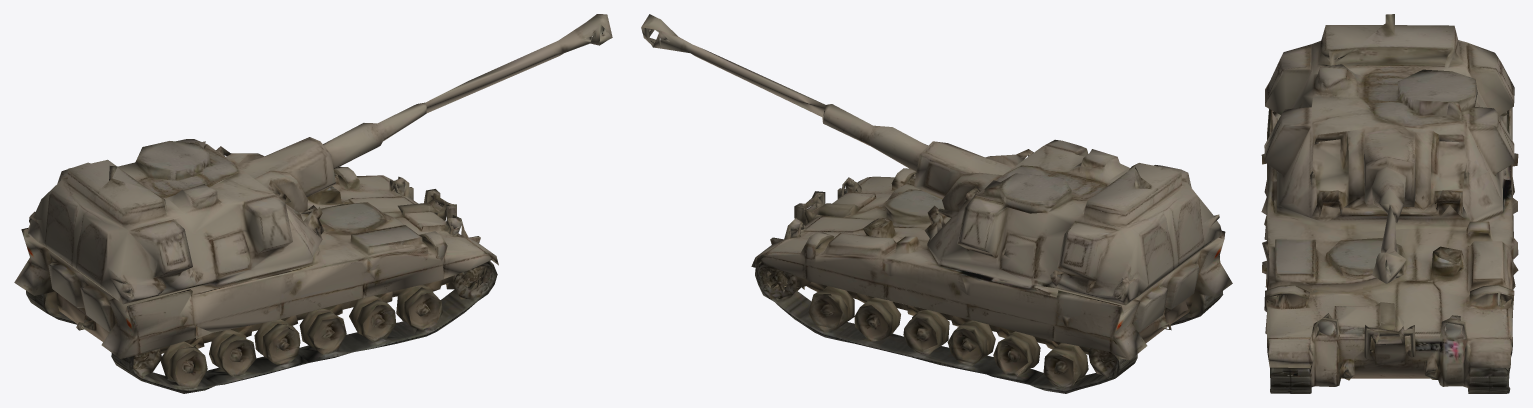
File: sau.glb
3 renders of one model, left to right at view 1: azimuth 30°, elevation 25°; view 2: azimuth 150°, elevation 25°; view 3: azimuth 270°, elevation 25°, orthographic. The views are drawn at different scales.
Parts seen in each view (by area): view 1: tripo_node_16762936-6c79-4423-8960-2fb7f74dda35; view 2: tripo_node_16762936-6c79-4423-8960-2fb7f74dda35; view 3: tripo_node_16762936-6c79-4423-8960-2fb7f74dda35.
Part boxes in pixels (x1=…): tripo_node_16762936-6c79-4423-8960-2fb7f74dda35: x1=14, y1=14, x2=612, y2=393; tripo_node_16762936-6c79-4423-8960-2fb7f74dda35: x1=641, y1=14, x2=1232, y2=393; tripo_node_16762936-6c79-4423-8960-2fb7f74dda35: x1=1261, y1=14, x2=1518, y2=393.
Bounding box in the file's own units: 1 × 0.4052 × 0.3542.
1 material, 1 textured.
